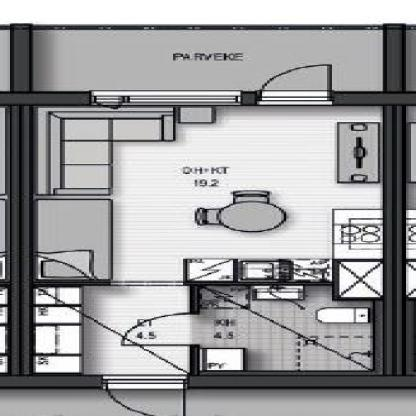door: (105, 377, 188, 416), (111, 314, 203, 348), (262, 60, 330, 96)
window: (91, 91, 239, 105)
zone: (33, 105, 374, 282), (34, 286, 370, 370), (30, 28, 384, 92)
